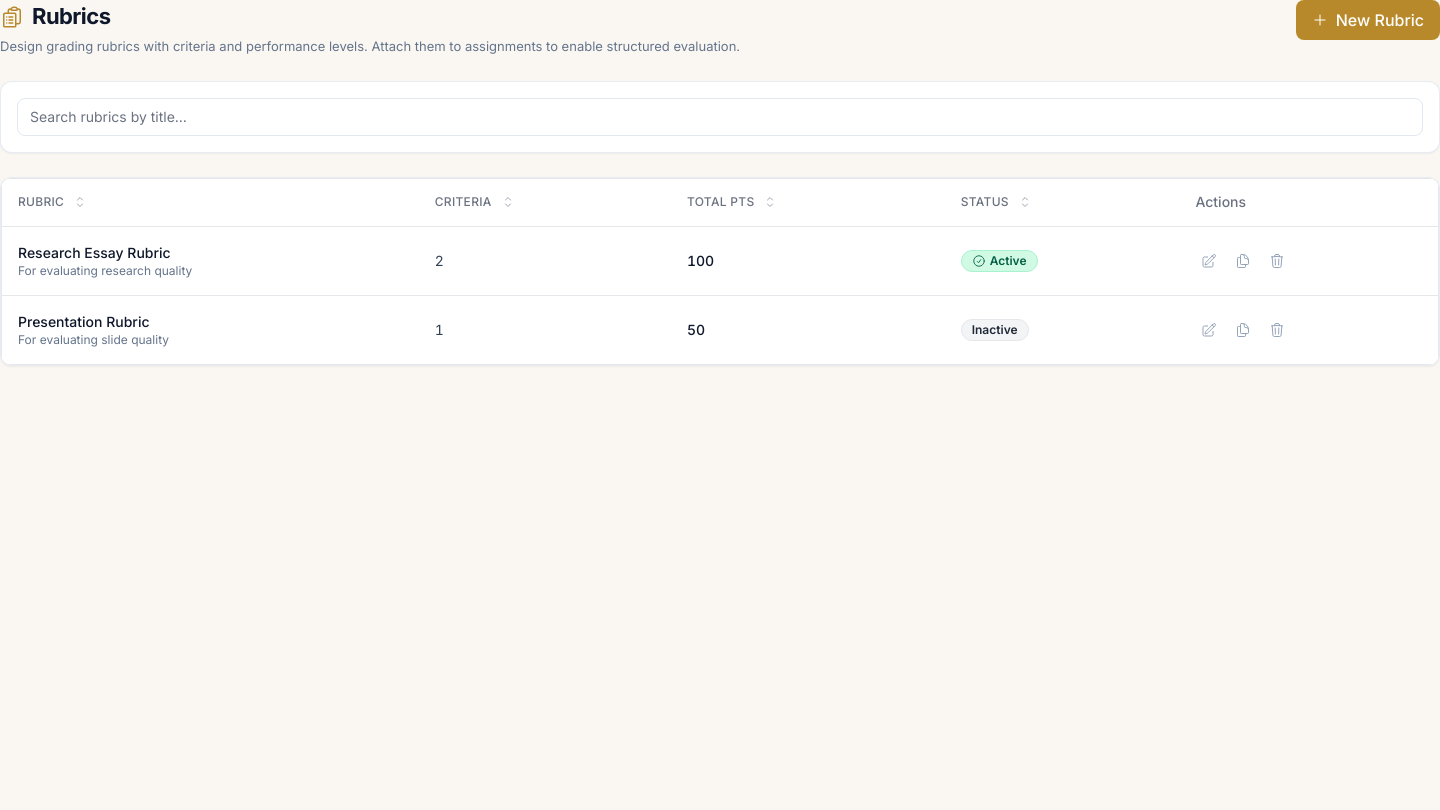
Test: RubricPage › opens edit modal with "Edit Rubric" heading when edit button is clicked
Click the button titled "Edit rubric" in the row of "Research Essay Rubric" at (1210, 261), box top-left (1196, 247), bottom-right (1224, 275)
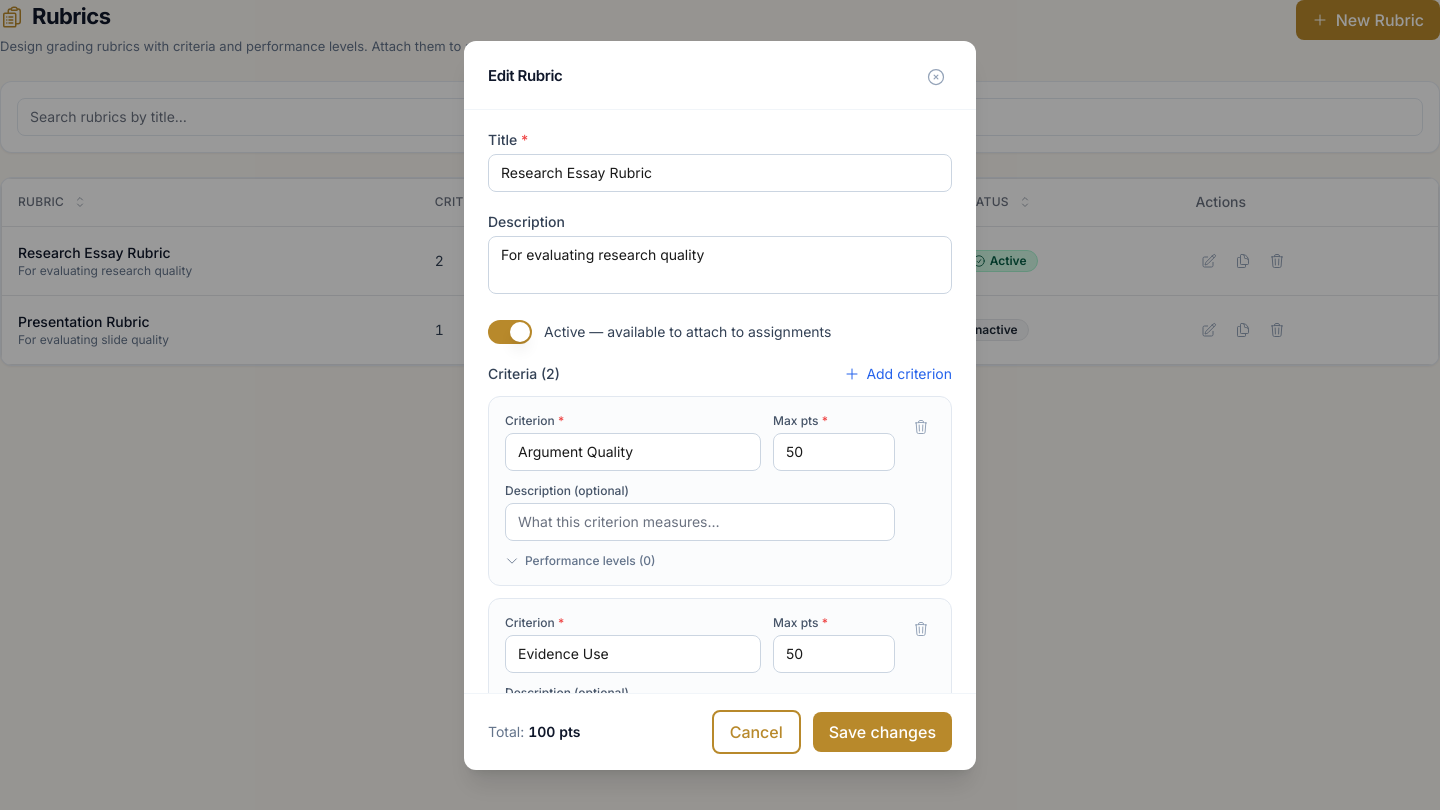
Check: the heading "Edit Rubric" is shown, box top-left (488, 65), bottom-right (562, 88)
